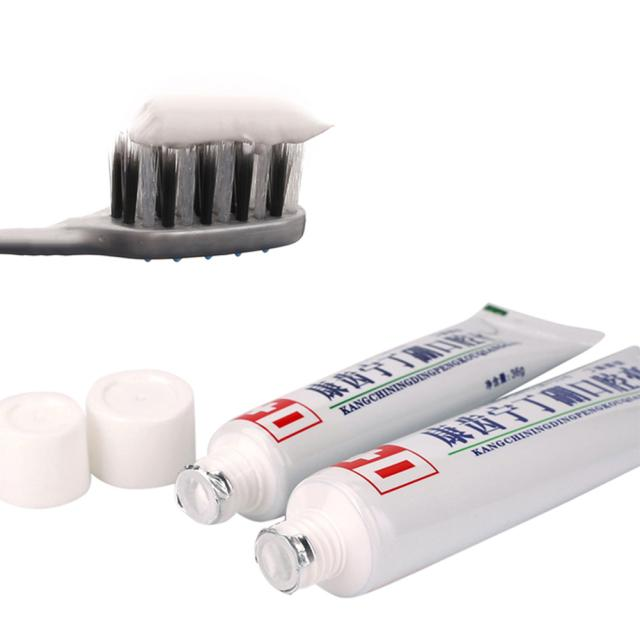toothpaste: (233, 335, 640, 610), (159, 296, 605, 517)
